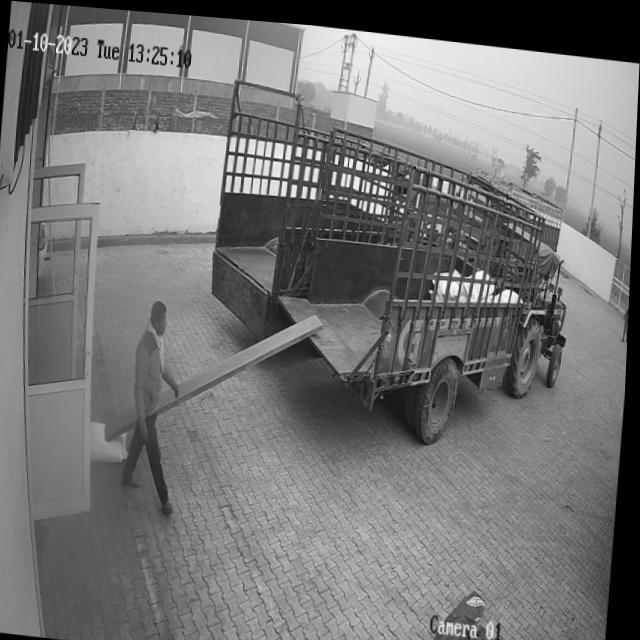sack: (92, 417, 133, 465)
